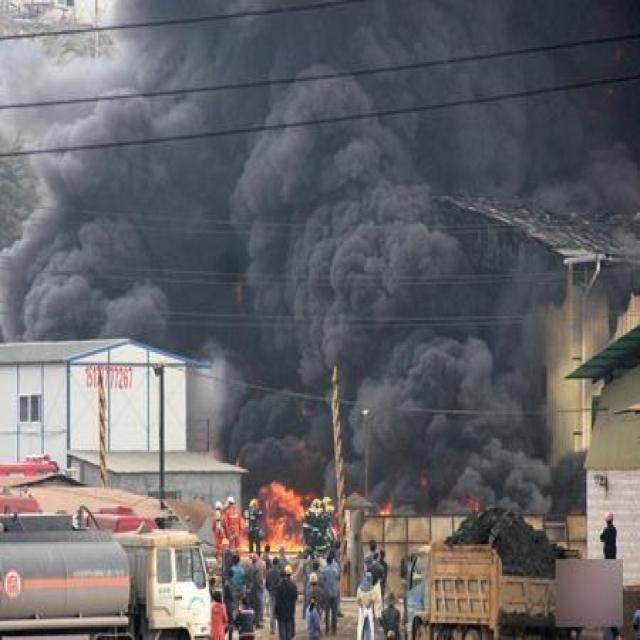Fire: (262, 480, 310, 553), (239, 514, 252, 552), (378, 500, 394, 518)
Smoke: (0, 0, 640, 524)
